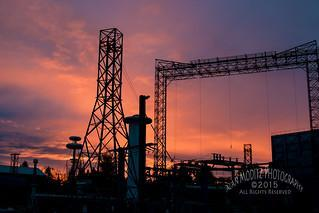power_tower: (73, 23, 145, 177)
